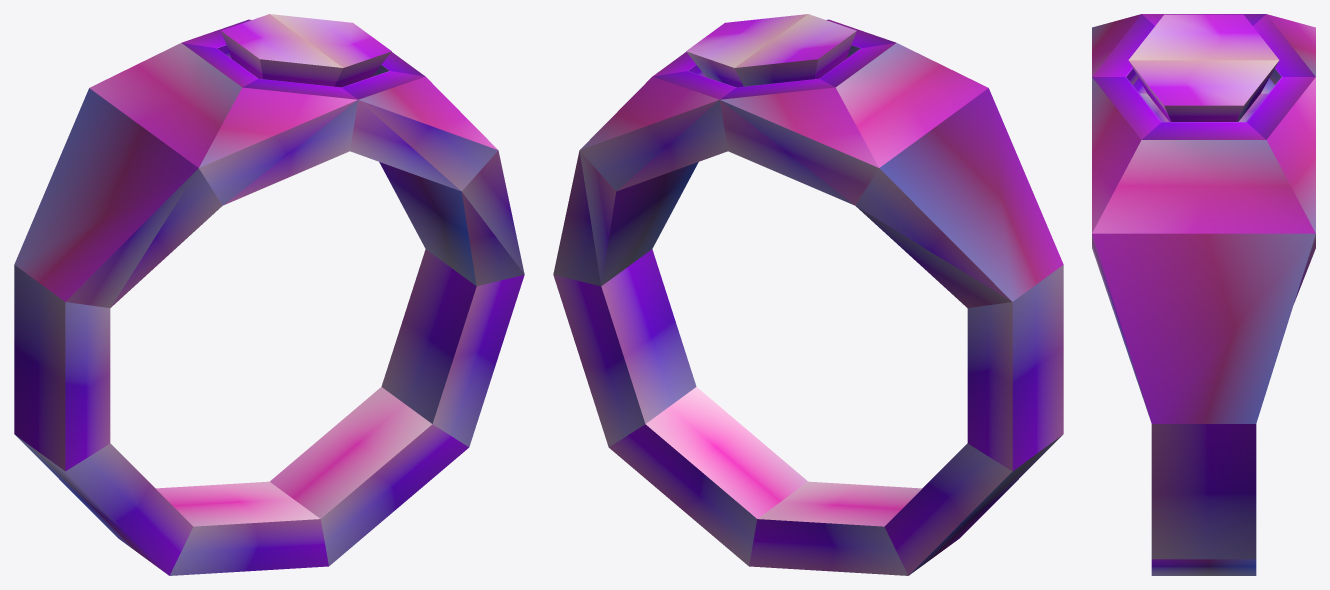
The model's file is ring02.fbx.
3 renders of one model, left to right at view 1: azimuth 30°, elevation 25°; view 2: azimuth 150°, elevation 25°; view 3: azimuth 270°, elevation 25°, orthographic. The views are drawn at different scales.
Visible parts, largest first — view 1: ring02; view 2: ring02; view 3: ring02.
Boxes of the visible parts, left/top/right/bottom form: ring02: left=14, top=14, right=524, bottom=575; ring02: left=553, top=14, right=1063, bottom=575; ring02: left=1092, top=14, right=1315, bottom=575.
Bounding box in the file's own units: 96.98 × 105 × 40.05.
